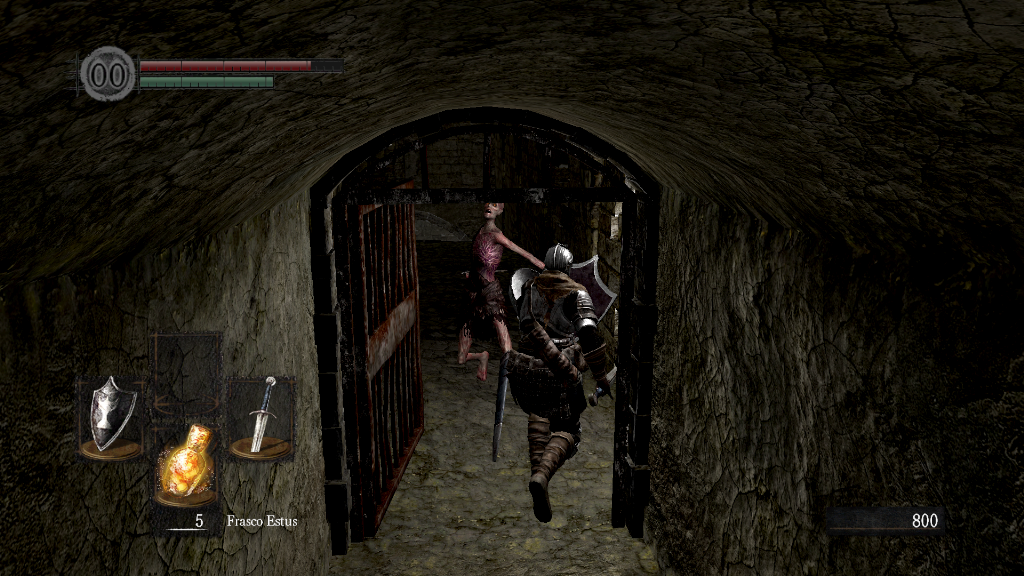health: (138, 58, 343, 71)
hollow: (455, 202, 549, 382)
humanity: (80, 45, 136, 102)
player: (491, 242, 619, 524)
souls: (825, 506, 945, 536)
stamina: (138, 74, 274, 88)
